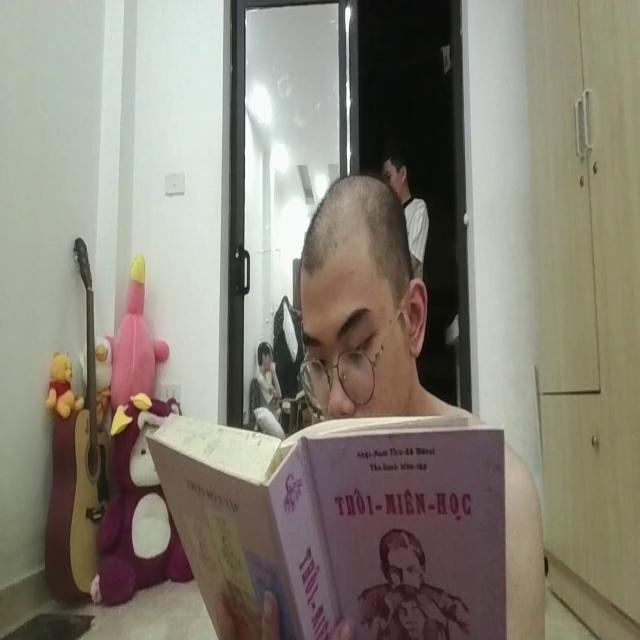book: (143, 400, 509, 640)
extra_person: (383, 139, 429, 277), (252, 328, 280, 414)
student: (294, 167, 428, 428)
